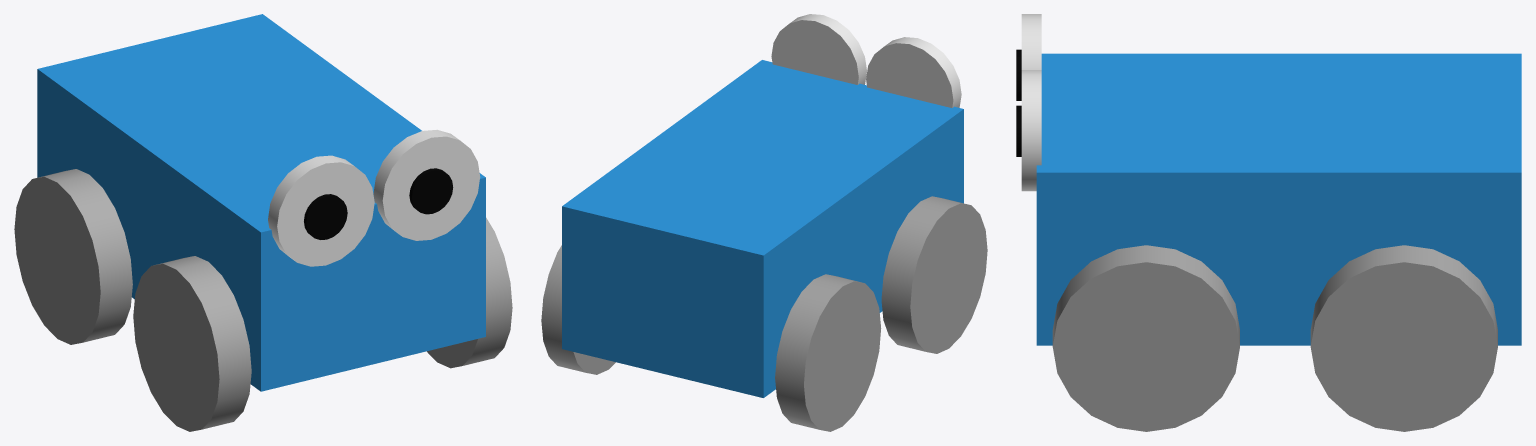
File: wtf.fbx
The picture shows the model from 3 angles, left to right: view 1: azimuth 30°, elevation 25°; view 2: azimuth 150°, elevation 25°; view 3: azimuth 270°, elevation 25°; orthographic projection. The views are drawn at different scales.
Visible parts, largest first — view 1: body, brwheel, frwheel1, pCylinder5, pCylinder7, flwheel, pCylinder8, pCylinder6; view 2: body, brwheel, frwheel1, pCylinder7, pCylinder5, blyatwheel; view 3: body, blyatwheel, flwheel, pCylinder7, pCylinder5.
Part boxes in pixels (box(x1,y1,x2,y2)): body: box(37, 14, 485, 391); brwheel: box(14, 169, 132, 344); frwheel1: box(133, 256, 251, 431); pCylinder5: box(268, 155, 374, 266); pCylinder7: box(373, 129, 480, 240); flwheel: box(427, 217, 512, 368); pCylinder8: box(409, 168, 453, 214); pCylinder6: box(304, 194, 347, 239); body: box(562, 60, 963, 397); brwheel: box(775, 274, 881, 431); frwheel1: box(881, 196, 987, 353); pCylinder7: box(771, 14, 866, 84); pCylinder5: box(866, 37, 961, 107); blyatwheel: box(541, 245, 615, 374); body: box(1036, 53, 1521, 345); blyatwheel: box(1310, 245, 1497, 431); flwheel: box(1052, 245, 1239, 431); pCylinder7: box(1021, 70, 1041, 191); pCylinder5: box(1021, 14, 1041, 69).
Size of the model in its own units: 11.53 by 10.61 by 15.87.
